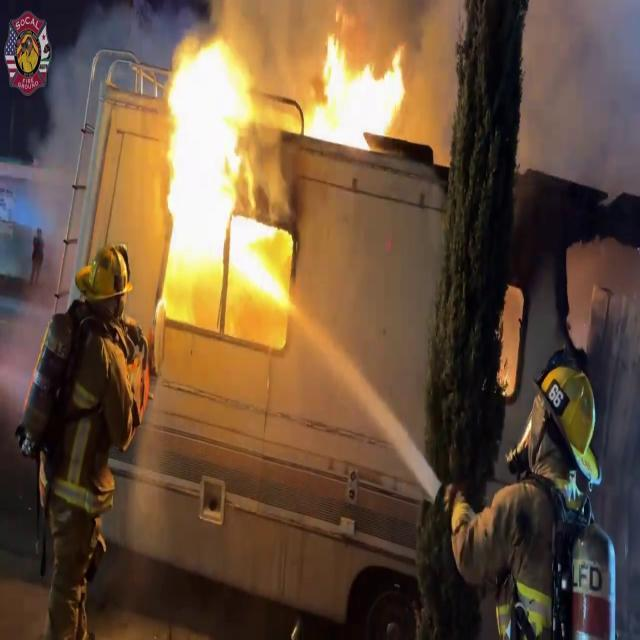Fire: (151, 30, 294, 312), (303, 21, 412, 151)
